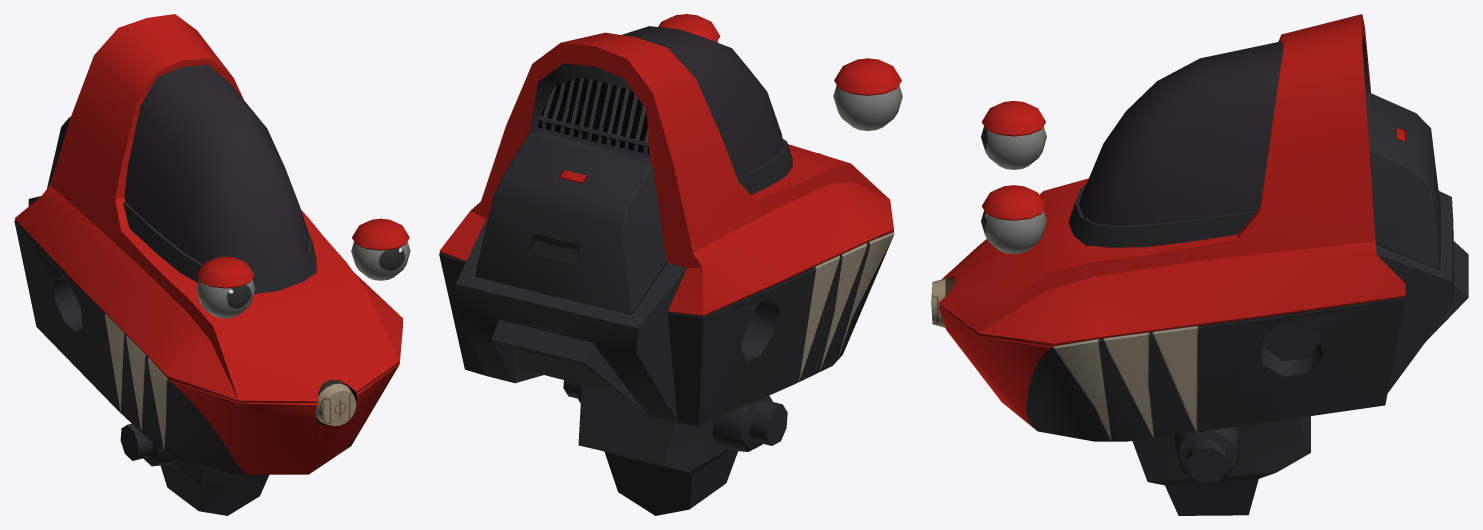
Rendered from Body_jijia01_shenti.FBX.
The picture shows the model from 3 angles, left to right: view 1: azimuth 30°, elevation 25°; view 2: azimuth 150°, elevation 25°; view 3: azimuth 270°, elevation 25°; orthographic projection. The views are drawn at different scales.
Parts seen in each view (by area): view 1: Body_jijia01_shenti; view 2: Body_jijia01_shenti; view 3: Body_jijia01_shenti.
Part boxes in pixels (x1,y1,x2,y2): Body_jijia01_shenti: (14, 14, 410, 515); Body_jijia01_shenti: (439, 14, 902, 515); Body_jijia01_shenti: (931, 14, 1468, 515).
Bounding box in the file's own units: 1.06 × 1.88 × 1.87.
Materials: 1 (1 with a texture image).
